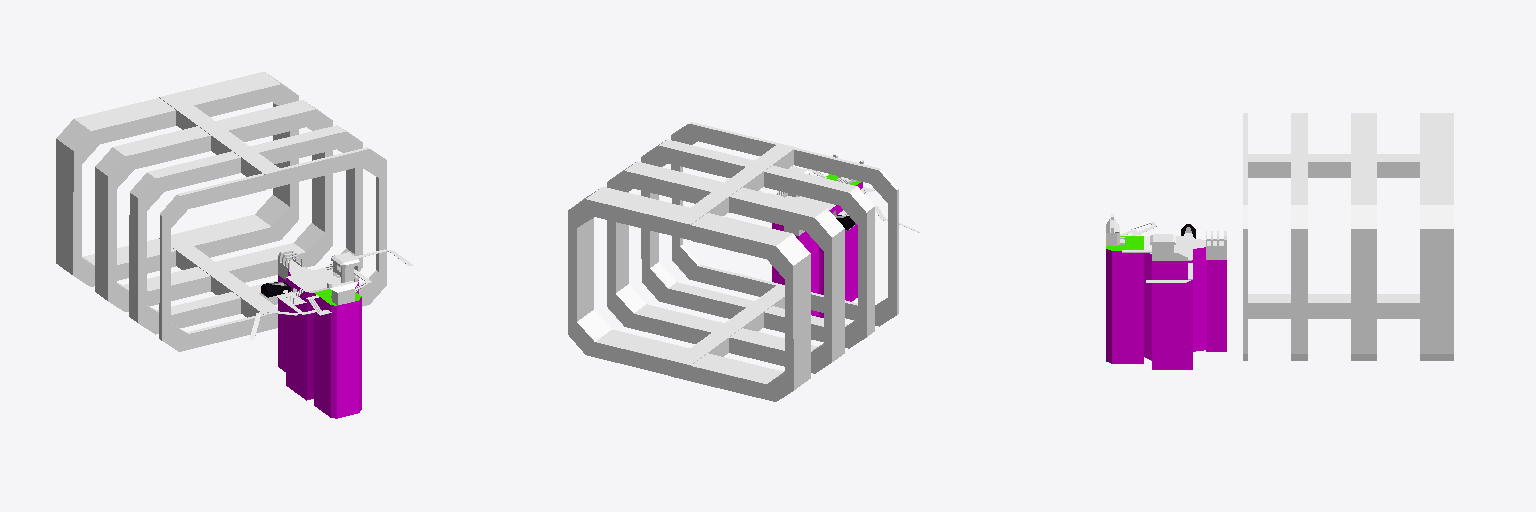
Rendered from CSGBrushes.obj.
3 renders of one model, left to right at view 1: azimuth 30°, elevation 25°; view 2: azimuth 150°, elevation 25°; view 3: azimuth 270°, elevation 25°, orthographic.
Visible parts, largest first — view 1: HubMat2_Mesh__1_, Mat_Lit_Door_Mesh__1_, HubMat1_Mesh__1_, HubMat5_Mesh__1_, HubMat3_Mesh__1_; view 2: HubMat2_Mesh__1_, Mat_Lit_Door_Mesh__1_, HubMat1_Mesh__1_; view 3: HubMat2_Mesh__1_, HubMat1_Mesh__1_, Mat_Lit_Door_Mesh__1_, HubMat3_Mesh__1_.
Boxes of the visible parts, x1,y1,x2,y2 form: HubMat2_Mesh__1_: [56, 72, 386, 351]; Mat_Lit_Door_Mesh__1_: [82, 103, 378, 333]; HubMat1_Mesh__1_: [278, 270, 361, 418]; HubMat5_Mesh__1_: [263, 249, 412, 315]; HubMat3_Mesh__1_: [286, 260, 340, 292]; HubMat2_Mesh__1_: [568, 122, 898, 401]; Mat_Lit_Door_Mesh__1_: [577, 166, 886, 383]; HubMat1_Mesh__1_: [772, 182, 862, 317]; HubMat2_Mesh__1_: [1122, 113, 1453, 360]; HubMat1_Mesh__1_: [1106, 247, 1226, 369]; Mat_Lit_Door_Mesh__1_: [1248, 294, 1419, 302]; HubMat3_Mesh__1_: [1144, 236, 1223, 253].
Bounding box in the file's own units: 156 × 129 × 208.